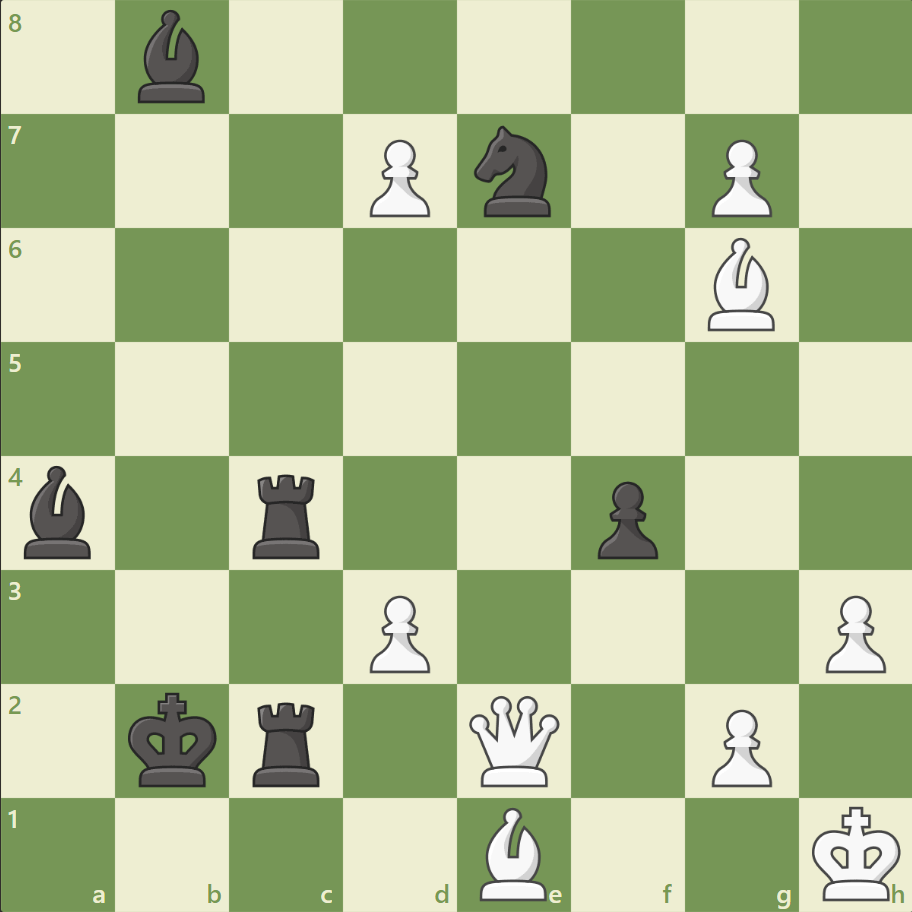B: (698, 233, 782, 336), (471, 801, 555, 904)
K: (806, 798, 906, 906)
P: (701, 132, 776, 223), (701, 700, 776, 791), (361, 132, 435, 223), (361, 586, 435, 677), (815, 586, 889, 677)
Q: (464, 690, 563, 789)
b: (131, 6, 215, 109), (17, 460, 101, 563)
k: (124, 685, 224, 793)
n: (465, 121, 562, 223)
p: (588, 473, 662, 564)
r: (246, 466, 329, 563), (246, 693, 329, 790)
